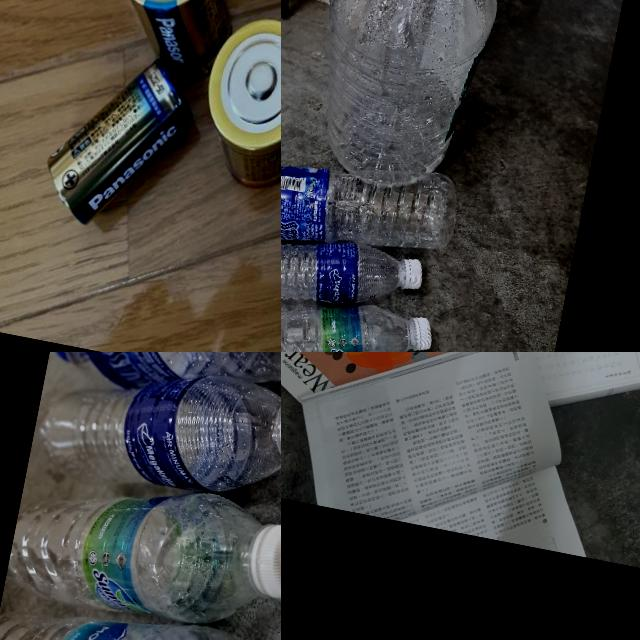bateria: (34, 48, 204, 244), (191, 8, 281, 203), (101, 0, 260, 91)
garrafa plástica: (2, 461, 275, 639), (295, 0, 511, 200), (26, 352, 281, 519), (281, 131, 466, 277), (48, 352, 281, 451), (0, 587, 280, 640), (281, 219, 408, 332), (281, 278, 417, 352)
papel: (281, 352, 640, 563)
tampa plástica: (252, 519, 281, 605), (405, 314, 435, 352), (400, 258, 424, 292)
